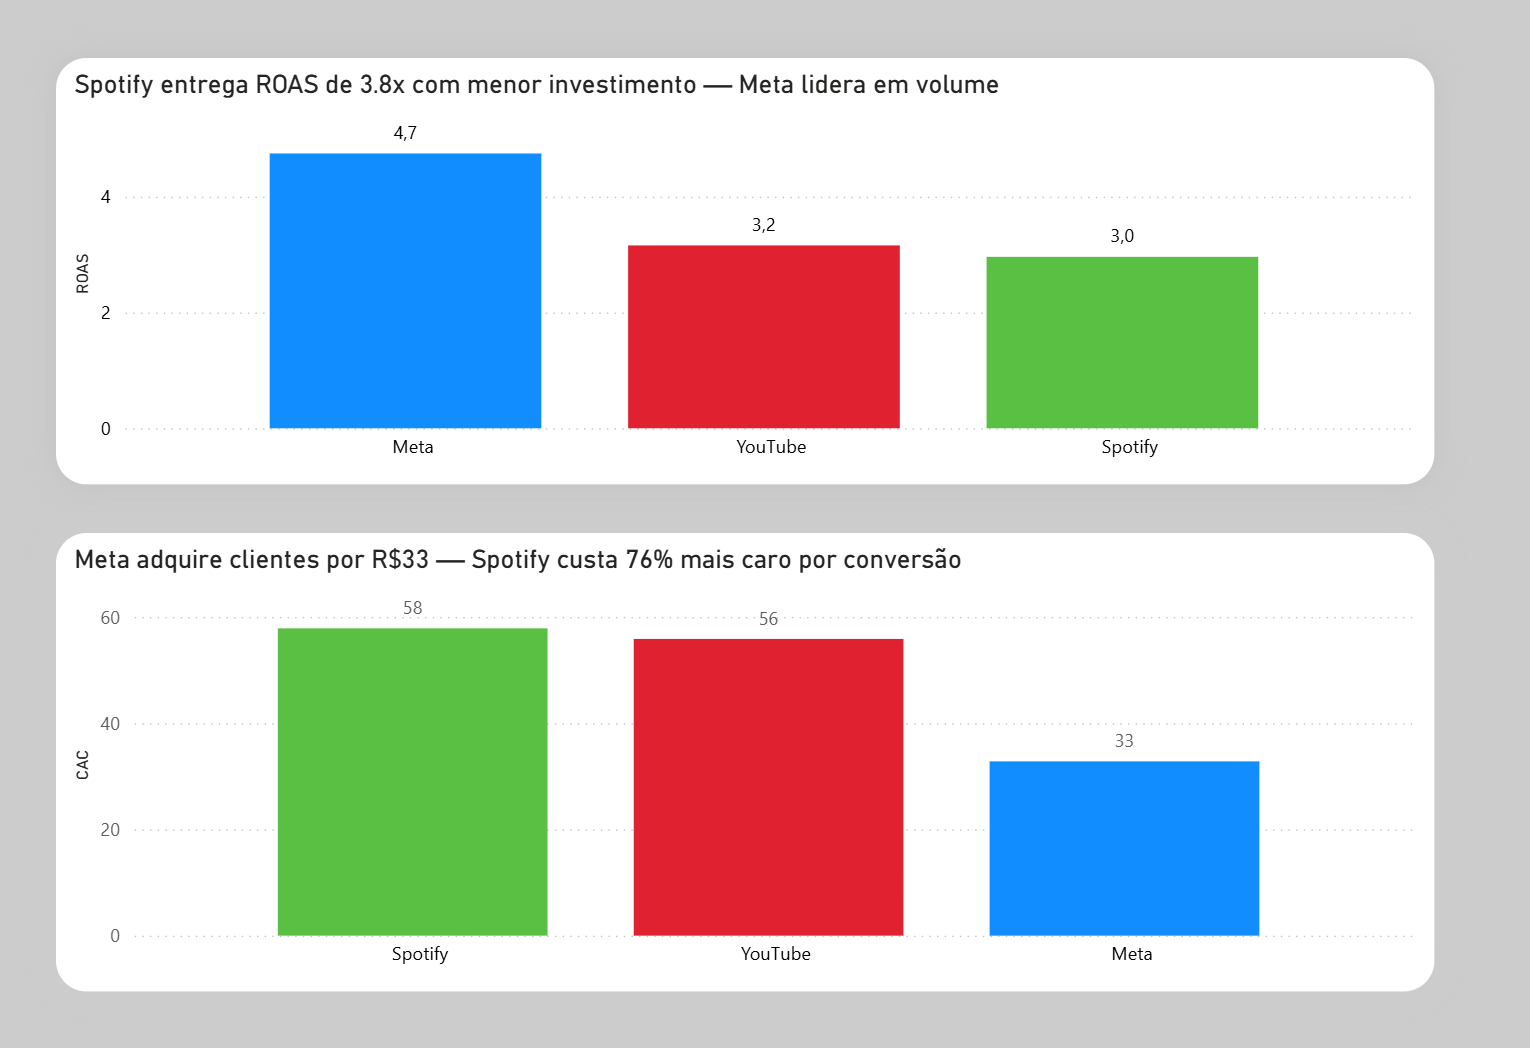

What the dashboard file says about the page in this screenshot:
{"tool":"powerbi","page":{"name":"Performance por Plataforma","canvas":[1280,720],"ordinal":1},"visuals":[{"type":"clusteredColumnChart","title":"Spotify entrega ROAS de 3.8x com menor investimento — Meta lidera em volume","fields":{"Y":["dCampanha.ROAS"],"Category":["dPlataforma.plataforma"]},"box":[184,52.9,902.5,279.3],"z":0},{"type":"clusteredColumnChart","title":"Meta adquire clientes por R$33 — Spotify custa 76% mais caro por conversão","fields":{"Category":["dPlataforma.plataforma"],"Y":["dCampanha.CAC"]},"box":[184,364,902.5,300.5],"z":1000}]}

Visuals, with their boxes on the page's 1280x720 design canvas (x1, y1, x2, y2). These are canvas units, not pixel positions in the 1530x1048 screenshot, which may show the page scaled, cropped or inside an application window:
"Spotify entrega ROAS de 3.8x com menor investimento — Meta lidera em volume" clusteredColumnChart: select_region(184, 53, 1086, 332)
"Meta adquire clientes por R$33 — Spotify custa 76% mais caro por conversão" clusteredColumnChart: select_region(184, 364, 1086, 664)
